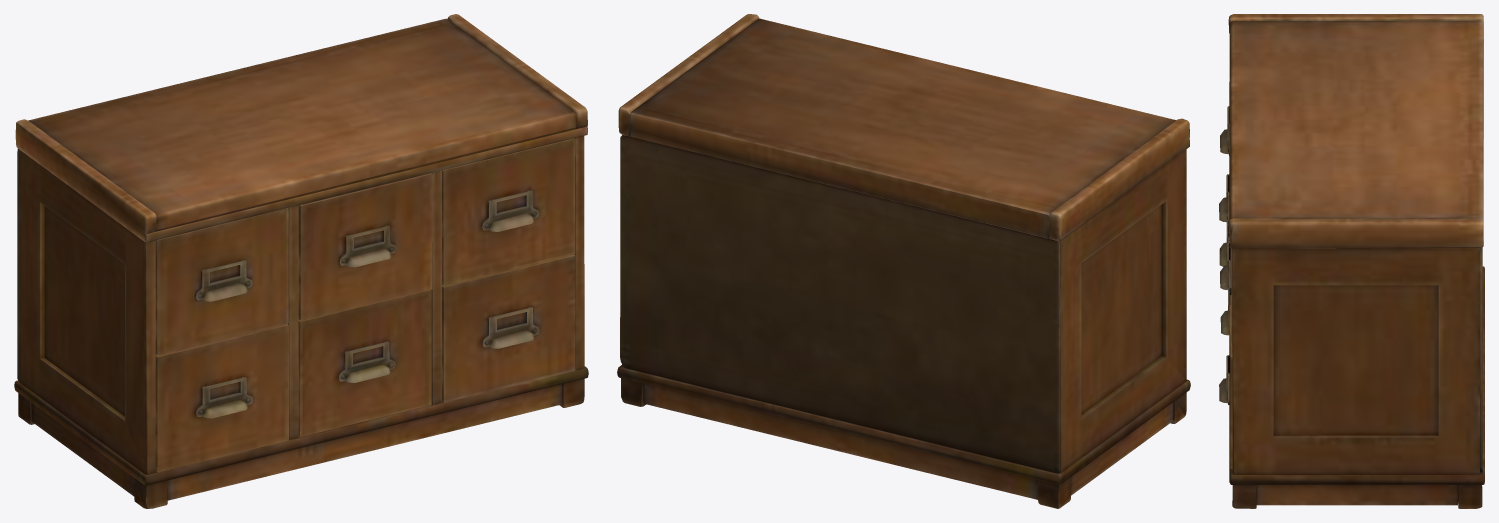
File: vintage_wooden_drawer_01.glb
3 renders of one model, left to right at view 1: azimuth 30°, elevation 25°; view 2: azimuth 150°, elevation 25°; view 3: azimuth 270°, elevation 25°, orthographic. The views are drawn at different scales.
Parts seen in each view (by area): view 1: vintage_wooden_drawer_01_body, vintage_wooden_drawer_01_drawer02, vintage_wooden_drawer_01_drawer04, vintage_wooden_drawer_01_drawer06, vintage_wooden_drawer_01_drawer01, vintage_wooden_drawer_01_drawer05, vintage_wooden_drawer_01_drawer03; view 2: vintage_wooden_drawer_01_body; view 3: vintage_wooden_drawer_01_body, vintage_wooden_drawer_01_drawer06, vintage_wooden_drawer_01_drawer03, vintage_wooden_drawer_01_drawer02, vintage_wooden_drawer_01_drawer05.
Boxes of the visible parts, x1,y1,x2,y2 form: vintage_wooden_drawer_01_body: (14, 14, 588, 508); vintage_wooden_drawer_01_drawer02: (298, 173, 432, 320); vintage_wooden_drawer_01_drawer04: (155, 324, 288, 472); vintage_wooden_drawer_01_drawer06: (442, 254, 575, 402); vintage_wooden_drawer_01_drawer01: (155, 208, 288, 355); vintage_wooden_drawer_01_drawer05: (298, 289, 431, 436); vintage_wooden_drawer_01_drawer03: (442, 138, 575, 285); vintage_wooden_drawer_01_body: (617, 14, 1190, 508); vintage_wooden_drawer_01_body: (1228, 14, 1484, 508); vintage_wooden_drawer_01_drawer06: (1219, 295, 1232, 468); vintage_wooden_drawer_01_drawer03: (1220, 242, 1232, 355); vintage_wooden_drawer_01_drawer02: (1219, 174, 1231, 287); vintage_wooden_drawer_01_drawer05: (1220, 288, 1231, 336).
Bounding box in the file's own units: 0.8558 × 0.5458 × 0.4572.
Materials: 1 (1 with a texture image).
